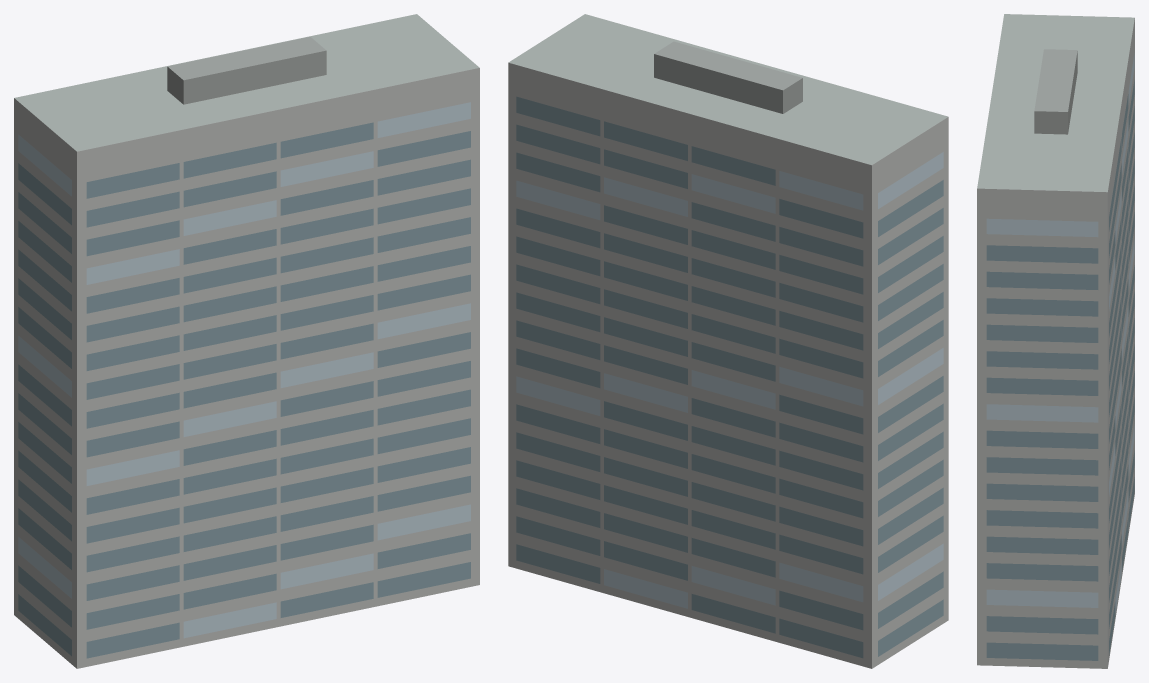
The model's file is fallback-sk-bukhansan-city-121.glb.
3 views of the same model, side by side, from view 1: azimuth 30°, elevation 25°; view 2: azimuth 150°, elevation 25°; view 3: azimuth 270°, elevation 25° (orthographic). The views are drawn at different scales.
Visible parts, largest first — view 1: fallback-sk-bukhansan-city-121; view 2: fallback-sk-bukhansan-city-121; view 3: fallback-sk-bukhansan-city-121.
Part boxes in pixels (left/top/right/bottom): fallback-sk-bukhansan-city-121: left=14, top=14, right=479, bottom=668; fallback-sk-bukhansan-city-121: left=508, top=14, right=948, bottom=668; fallback-sk-bukhansan-city-121: left=977, top=14, right=1134, bottom=668.
Size of the model in its own units: 36.74 by 48 by 13.75.
